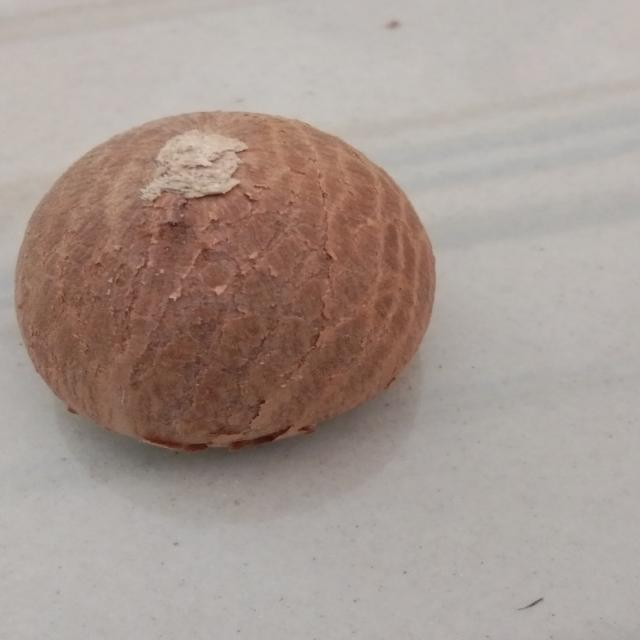good: (1, 106, 460, 464)
